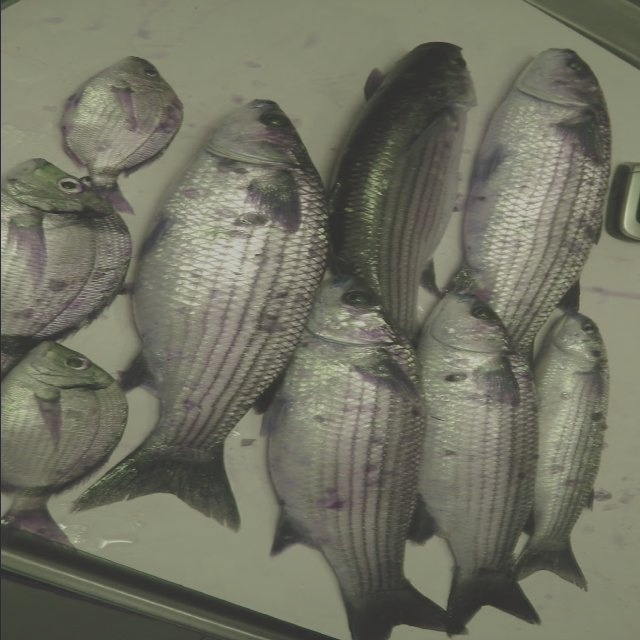EUS Disease: (5, 52, 640, 639), (185, 202, 276, 400), (515, 118, 594, 291), (310, 390, 397, 525), (438, 353, 510, 508), (18, 243, 92, 339)
